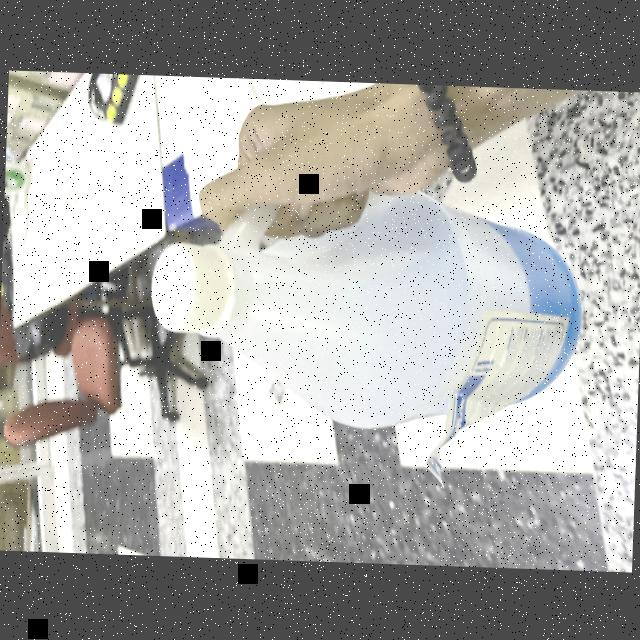chemical_plastic_gallon: (122, 134, 599, 478)
